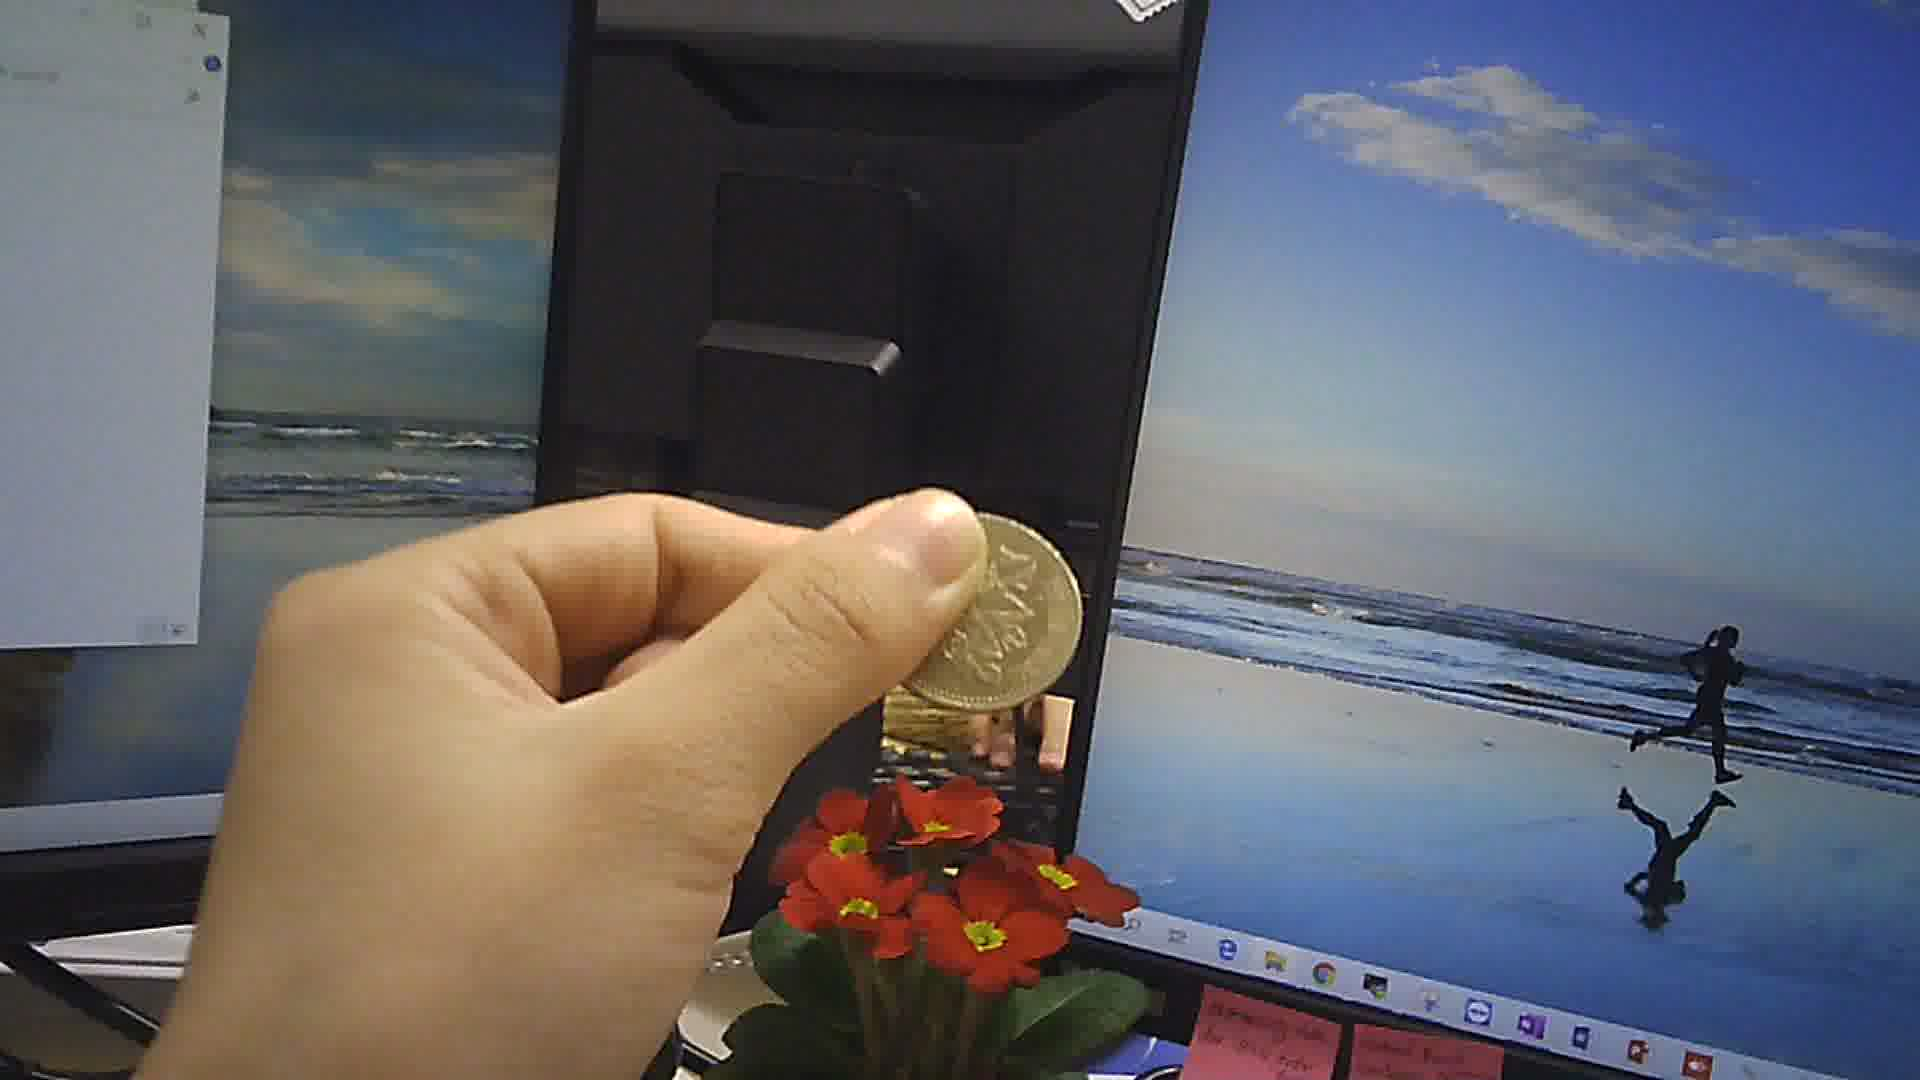500 Yen: (876, 501, 1089, 728)
